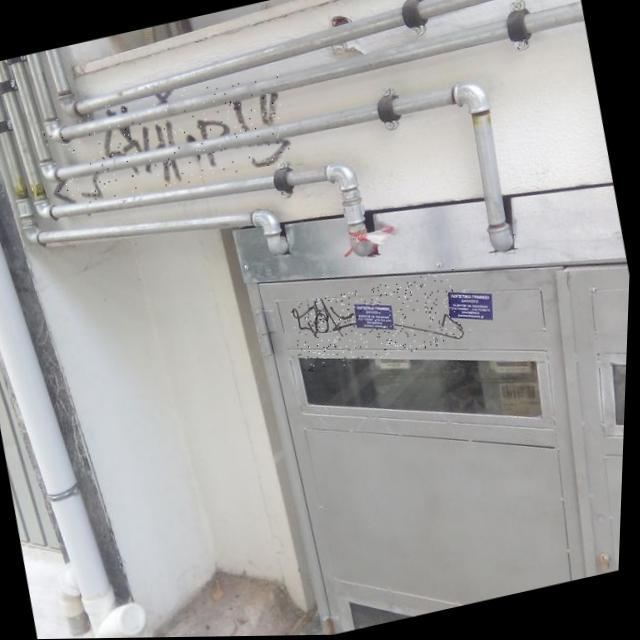-: (39, 68, 298, 214), (289, 269, 470, 377)
